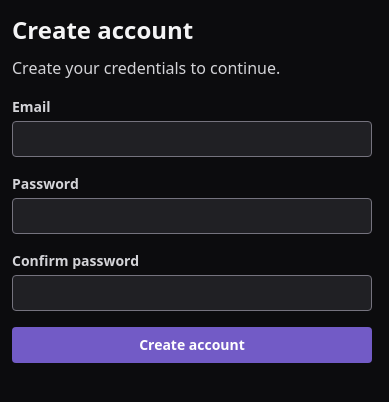
Test: AuthenticationForm › clears password mismatch when the mode changes
Type "taylor@example.com" into the field labelled "Email" at (192, 139), box [12,121,372,157]
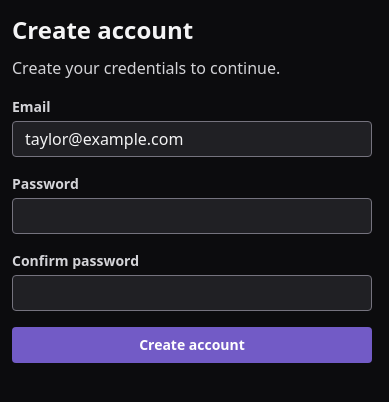
Type "one" into the password field labelled "Password" at (192, 216), box [12,198,372,234]
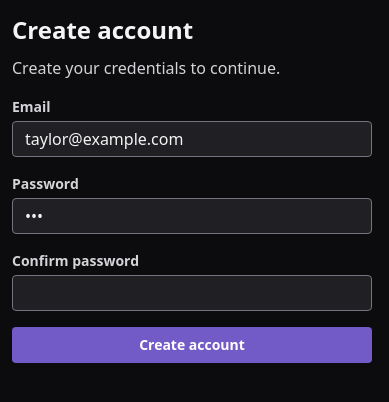
Type "two" into the password field labelled "Confirm password" at (192, 293), box [12,275,372,311]
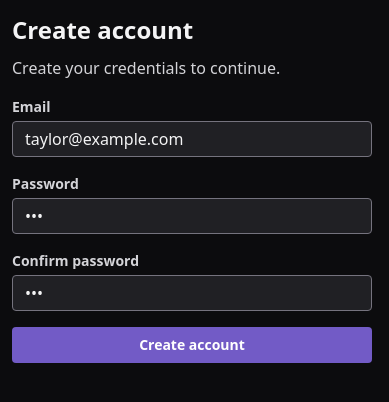
Click the button "Create account" at (192, 345), box [12,327,372,363]
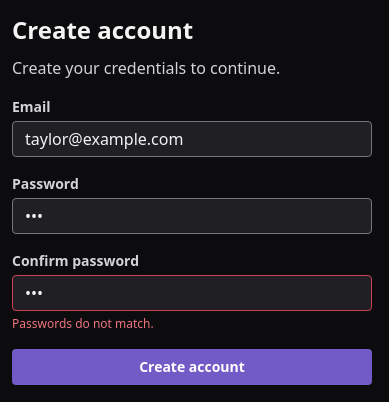
Result: the text "Passwords do not match." is shown at [12,315,154,332]
